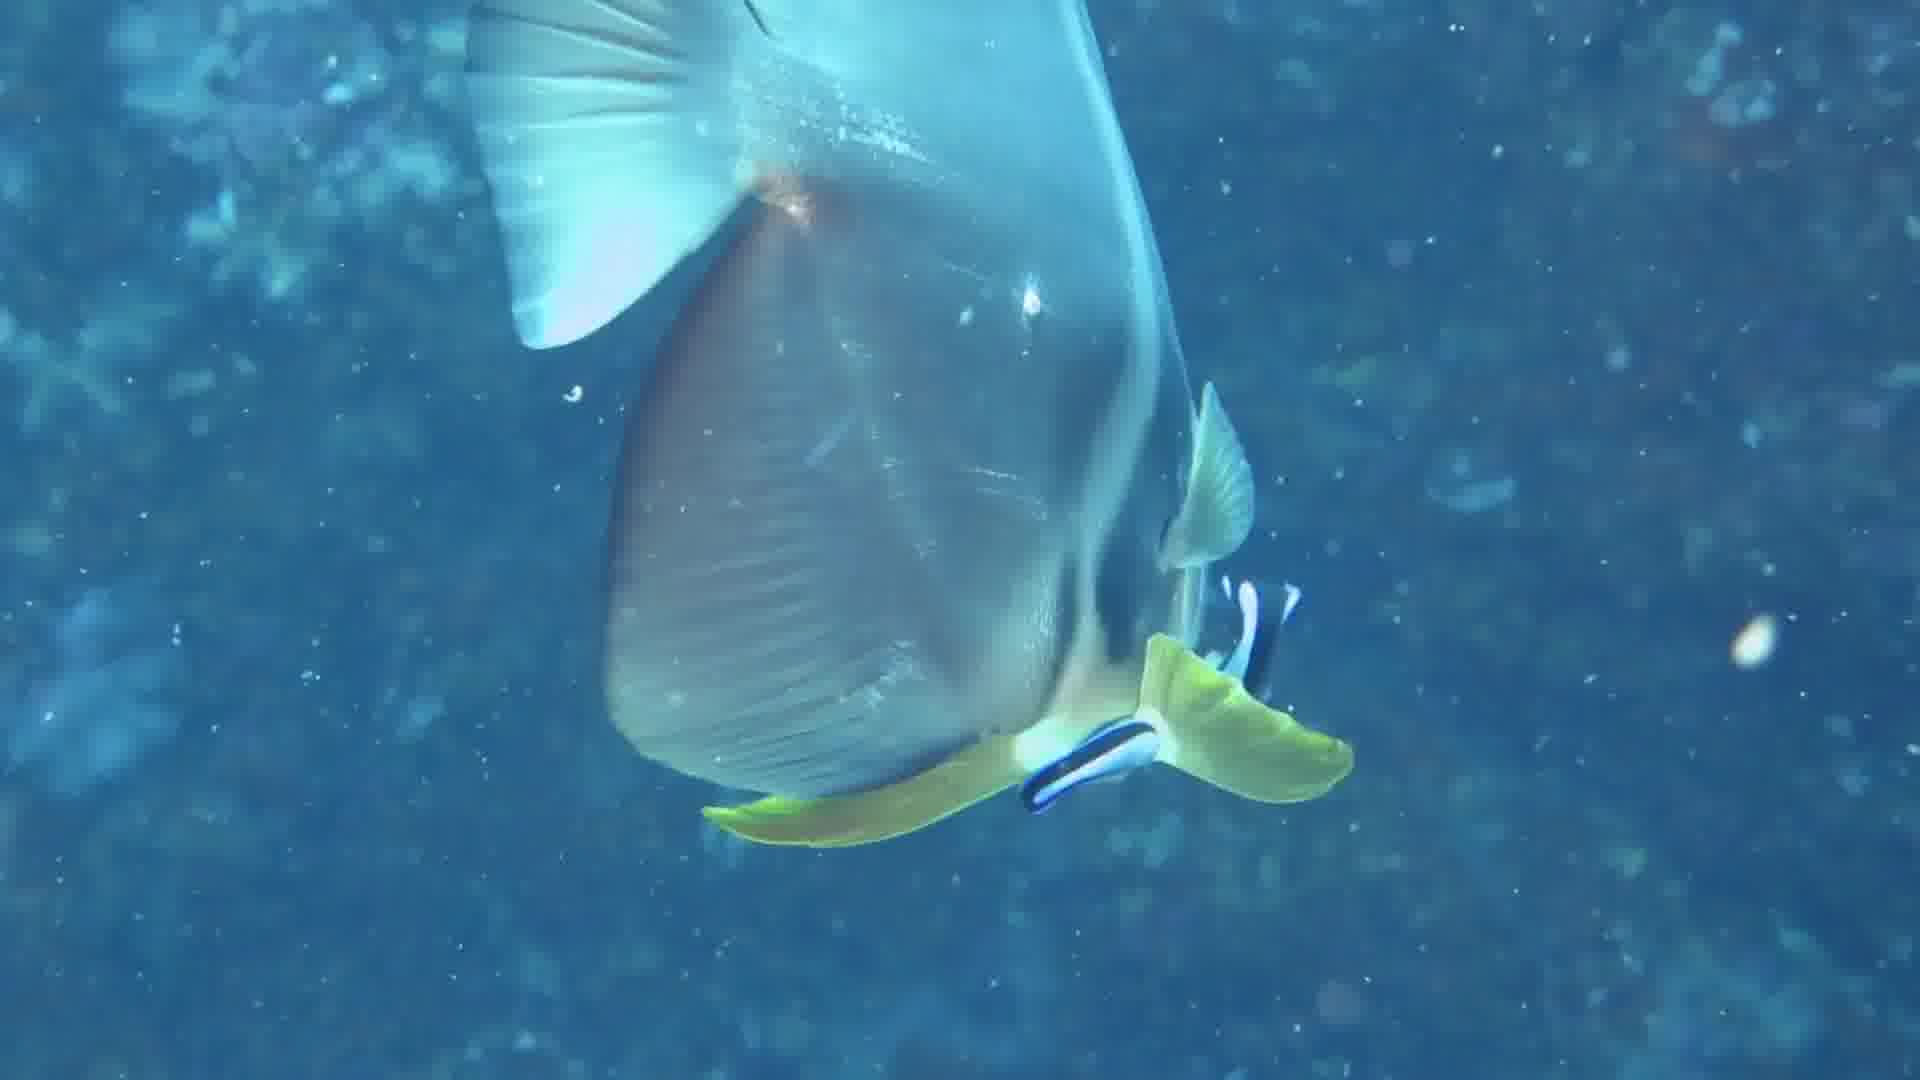Platax teira: (393, 1, 1416, 851)
